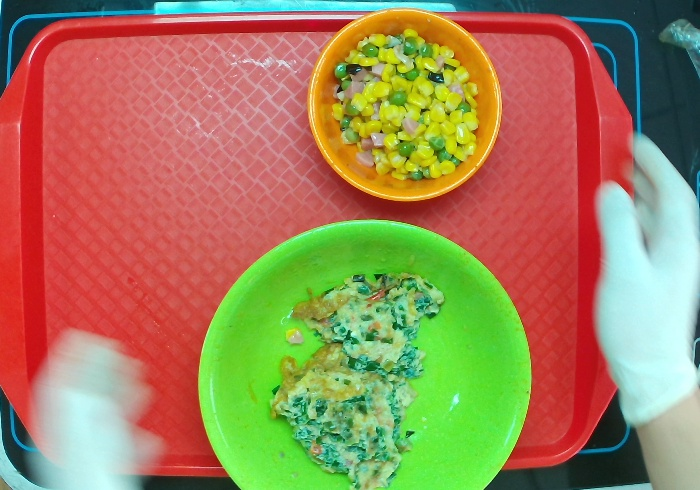YKMZ-Ju_Se_Yuan_Wan: (309, 5, 504, 201)
YKMZ-Lv_Se_Tang_Wan: (197, 216, 534, 490)
